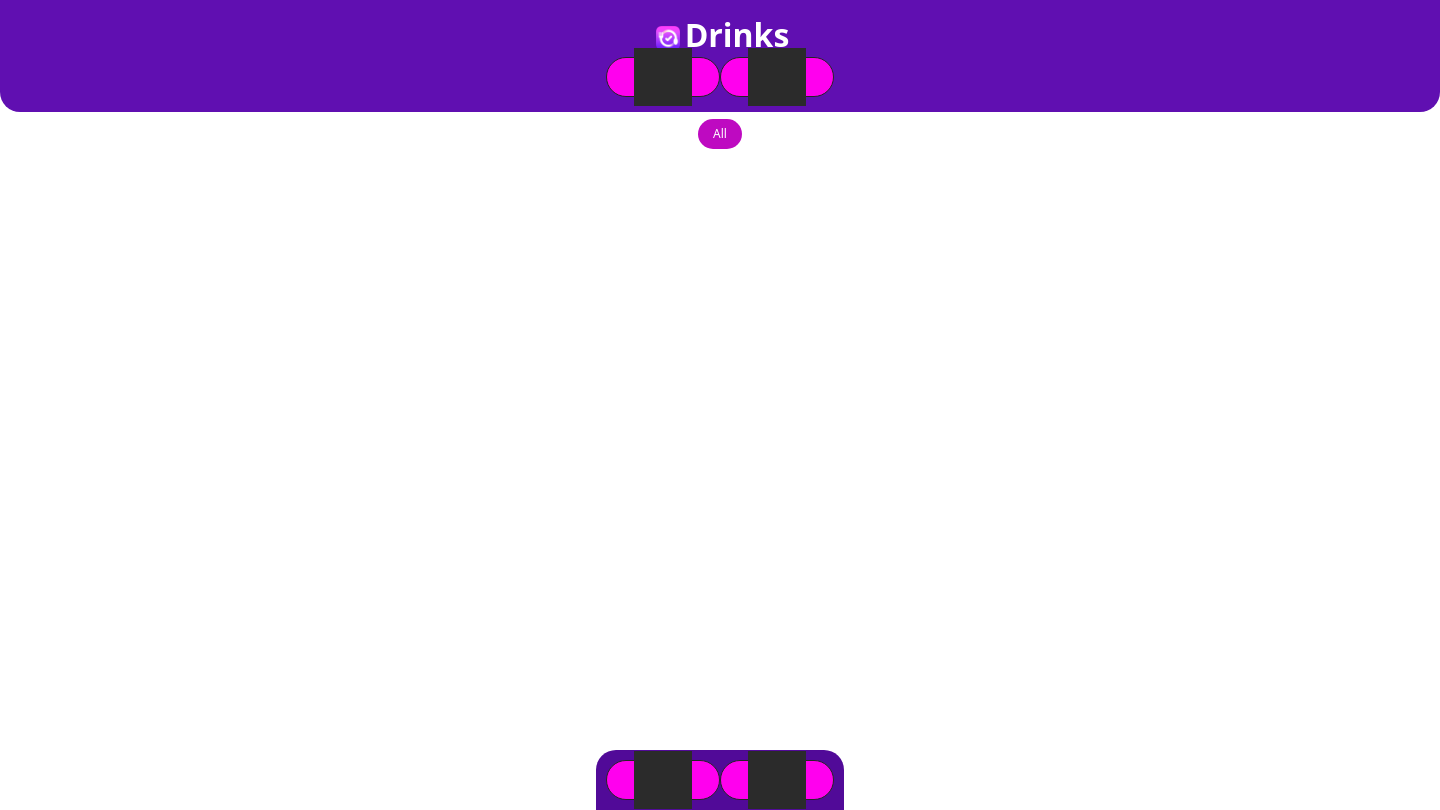
Test: Testes referente ao componente SearchBar de Drinks › Verifica se os elementos de Drinks estão sendo renderizados na tela
Click the 2nd button named "search".
click(777, 77)  # box [720,57,834,97]
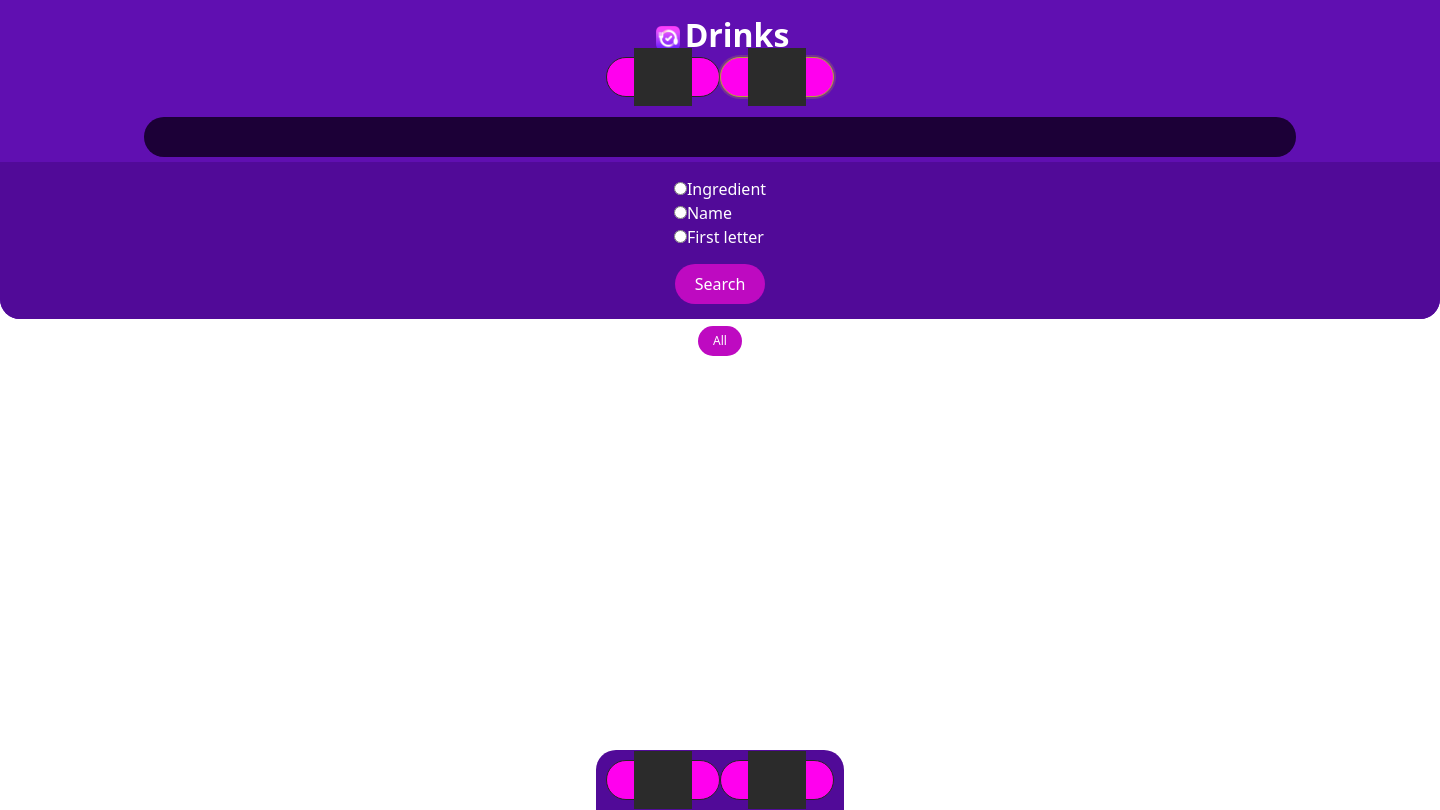
Now the radio button labelled "Name" is shown, box [674,206,687,219]
Now the radio button labelled "Ingredient" is shown, box [674,182,687,195]
Now the radio button labelled "First letter" is shown, box [674,230,687,243]
